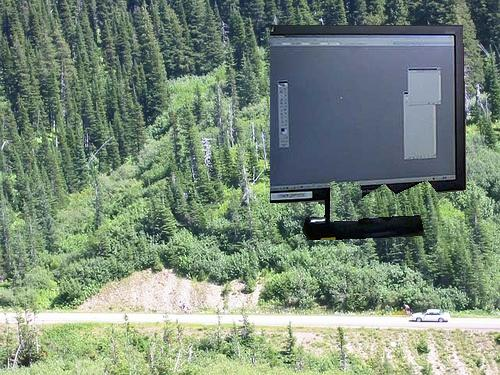tampered: (271, 26, 466, 240)
